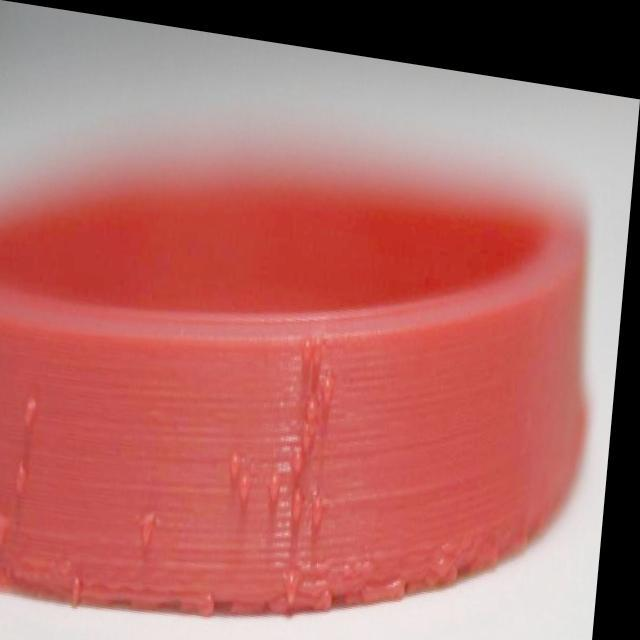zits: (273, 450, 293, 500), (298, 425, 316, 479), (291, 556, 311, 602), (310, 372, 328, 421), (242, 462, 260, 508), (232, 438, 250, 482), (150, 505, 168, 548), (318, 479, 334, 523), (23, 452, 38, 498), (326, 353, 341, 398), (298, 474, 314, 516), (78, 566, 94, 606), (30, 381, 44, 422), (316, 321, 330, 362), (0, 504, 10, 550)
